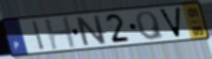2: (104, 13, 132, 44)
H: (43, 16, 79, 52)
I: (30, 19, 47, 52)
N: (73, 14, 109, 48)
Q: (135, 9, 166, 41)
V: (157, 6, 183, 40)
